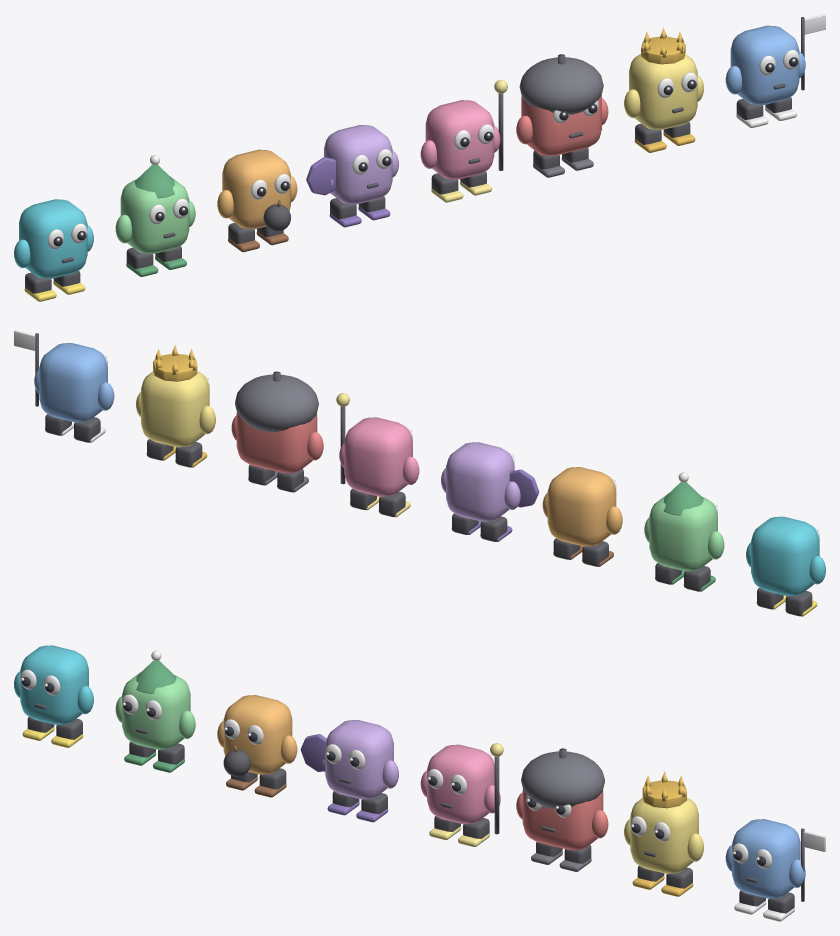
File: plebs_roster.glb
3 views of the same model, one above another, from view 1: azimuth 30°, elevation 25°; view 2: azimuth 150°, elevation 25°; view 3: azimuth 330°, elevation 25° (orthographic).
Parts seen in each view (by area): view 1: pleb_brute, pleb_king, pleb_mage, pleb_banner, pleb_guard, pleb_scout, pleb_bomber, pleb_basic; view 2: pleb_brute, pleb_king, pleb_guard, pleb_banner, pleb_mage, pleb_scout, pleb_bomber, pleb_basic; view 3: pleb_brute, pleb_king, pleb_guard, pleb_banner, pleb_mage, pleb_scout, pleb_bomber, pleb_basic.
Boxes of the visible parts, box(x1,y1,x2,y2) form: pleb_brute: box(516, 54, 608, 177); pleb_king: box(624, 28, 703, 152); pleb_mage: box(420, 80, 507, 202); pleb_banner: box(725, 14, 825, 127); pleb_guard: box(306, 125, 398, 227); pleb_scout: box(115, 155, 195, 276); pleb_bomber: box(217, 149, 297, 252); pleb_basic: box(14, 199, 93, 301); pleb_brute: box(231, 371, 323, 492); pleb_king: box(136, 345, 215, 467); pleb_guard: box(441, 442, 539, 541); pleb_banner: box(14, 330, 114, 442); pleb_mage: box(336, 393, 419, 517); pleb_scout: box(644, 472, 724, 591); pleb_bomber: box(542, 467, 622, 566); pleb_basic: box(746, 516, 825, 616); pleb_brute: box(516, 748, 608, 871); pleb_king: box(624, 771, 703, 896); pleb_guard: box(300, 720, 398, 822); pleb_banner: box(725, 819, 825, 921); pleb_mage: box(420, 743, 503, 846); pleb_scout: box(115, 650, 195, 772); pleb_bomber: box(217, 695, 297, 797); pleb_basic: box(14, 645, 93, 747).
Size of the model in its own units: 13.55 by 1.77 by 1.38.
